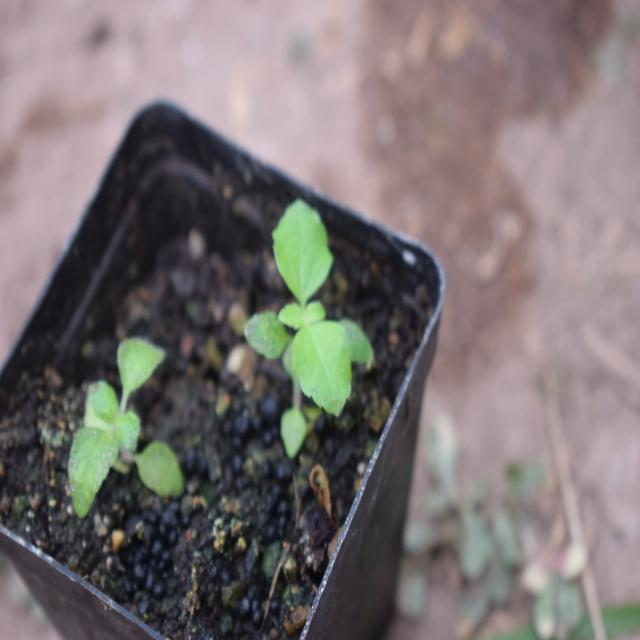billygoat_weed: (242, 197, 364, 435), (64, 322, 204, 521)
